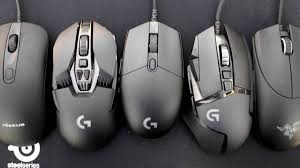mouse: (51, 12, 123, 158), (189, 14, 257, 158), (126, 14, 187, 153), (0, 11, 51, 154), (254, 17, 300, 153)
